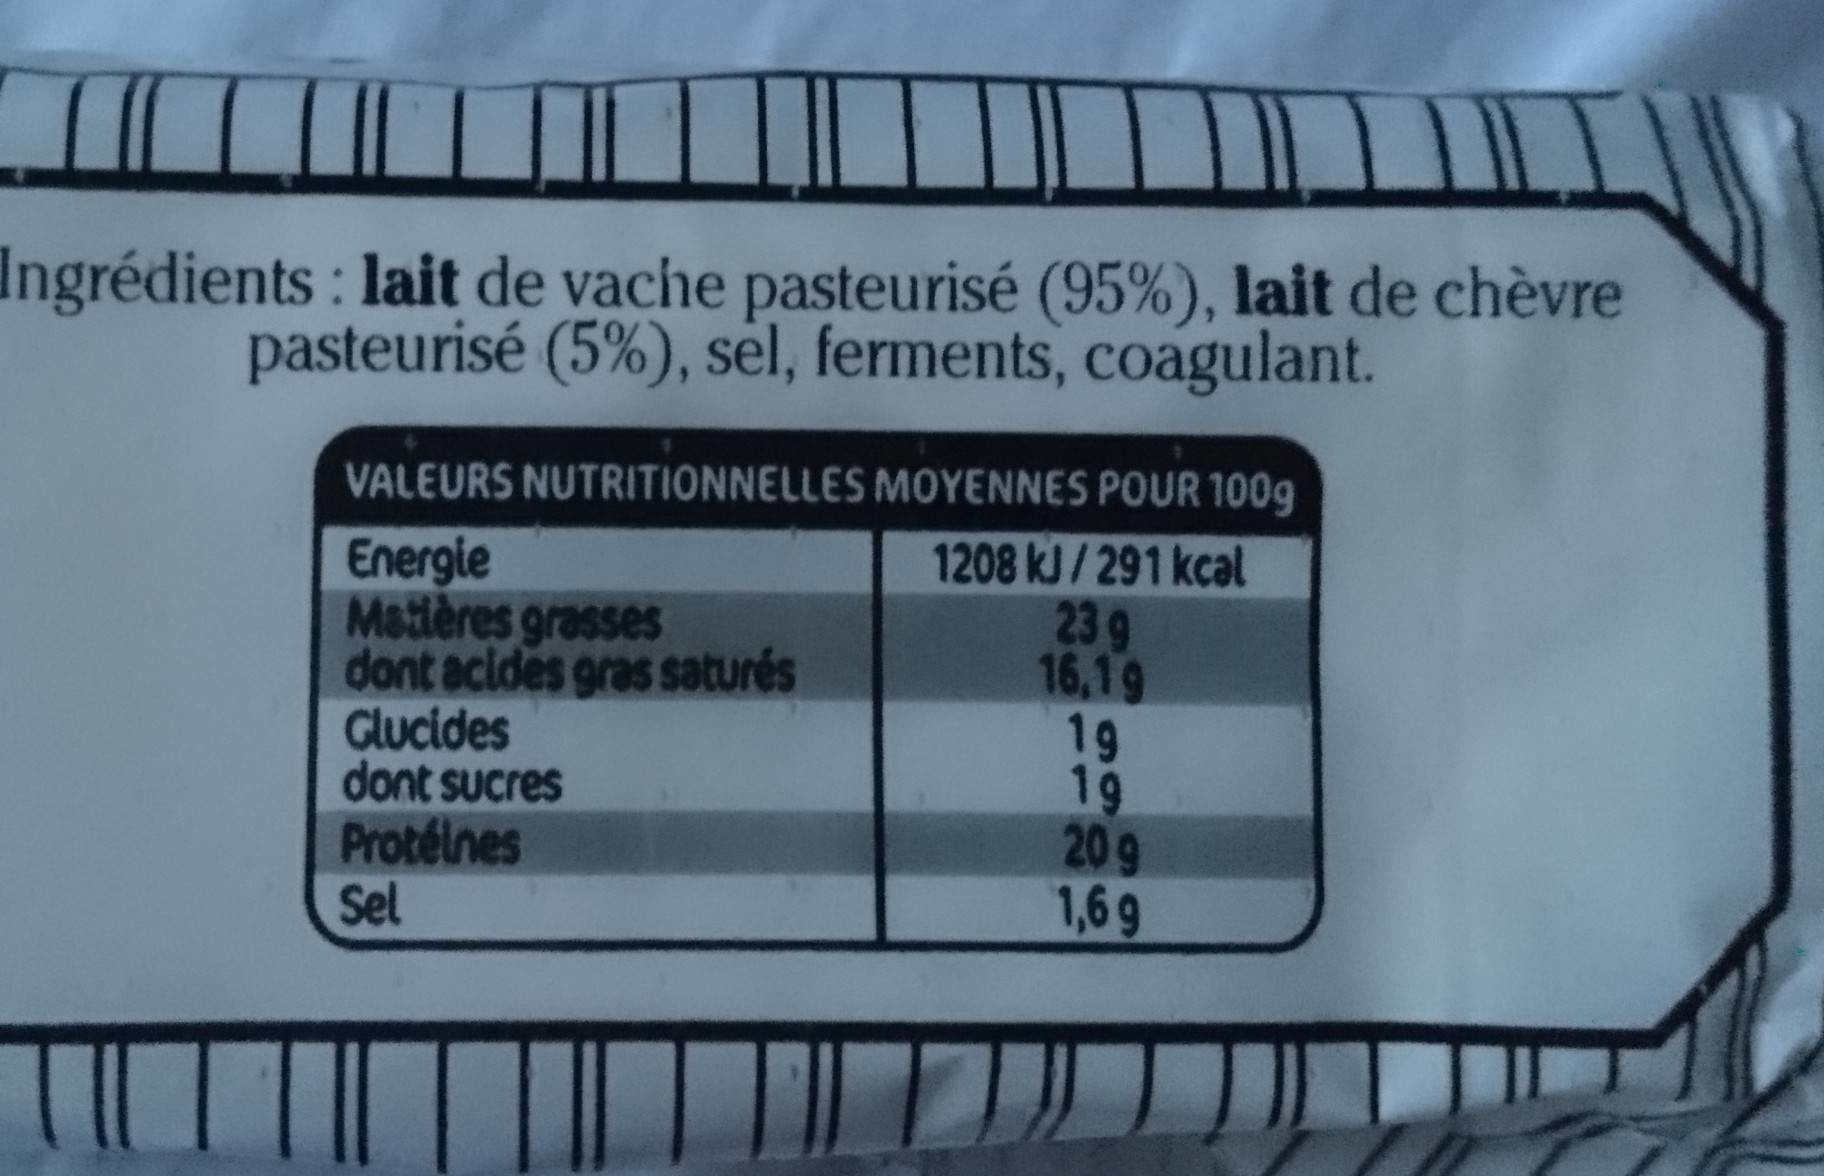table: (304, 421, 1323, 955)
